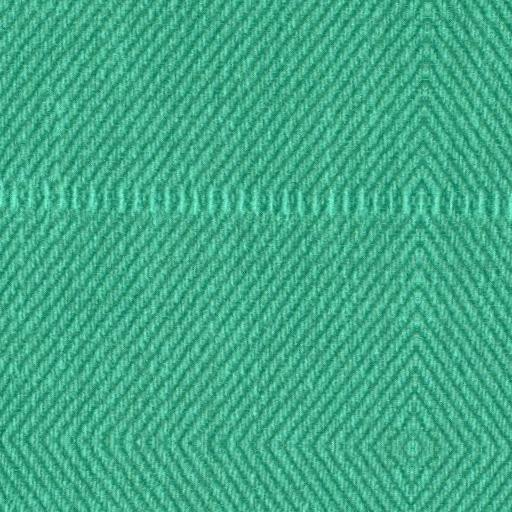slub: (0, 177, 512, 229)
